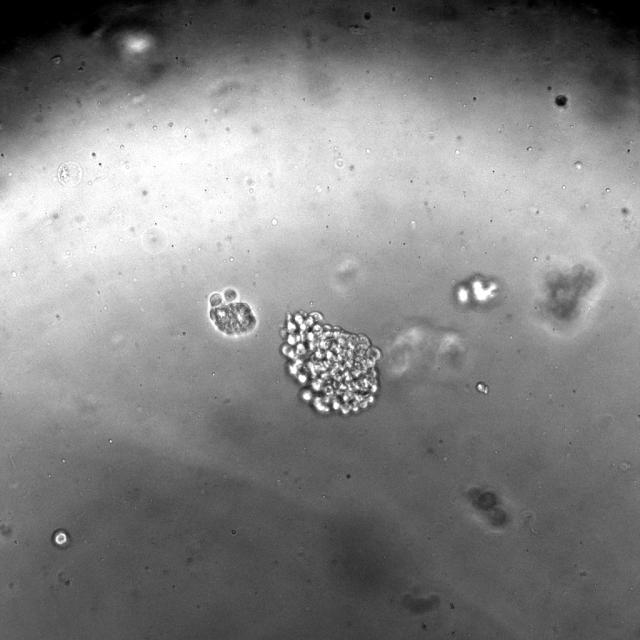organoid: (280, 311, 381, 414), (544, 265, 595, 320), (209, 287, 256, 337), (453, 273, 502, 308), (467, 487, 508, 527), (51, 529, 70, 548)
